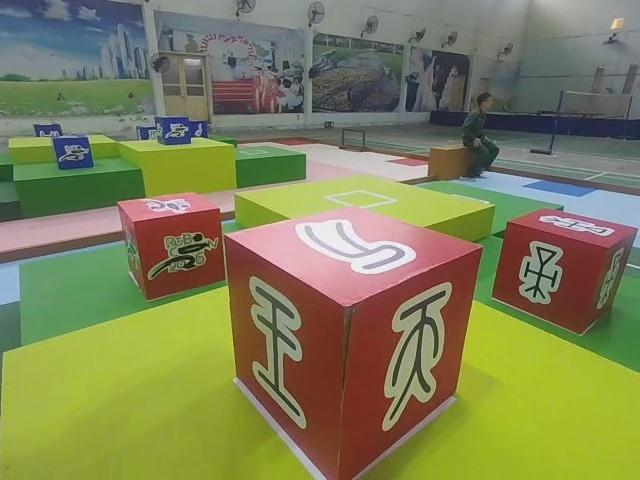R1: (118, 194, 227, 300)
R2 Fake: (222, 208, 484, 480)
R2 Real: (493, 208, 639, 335)
